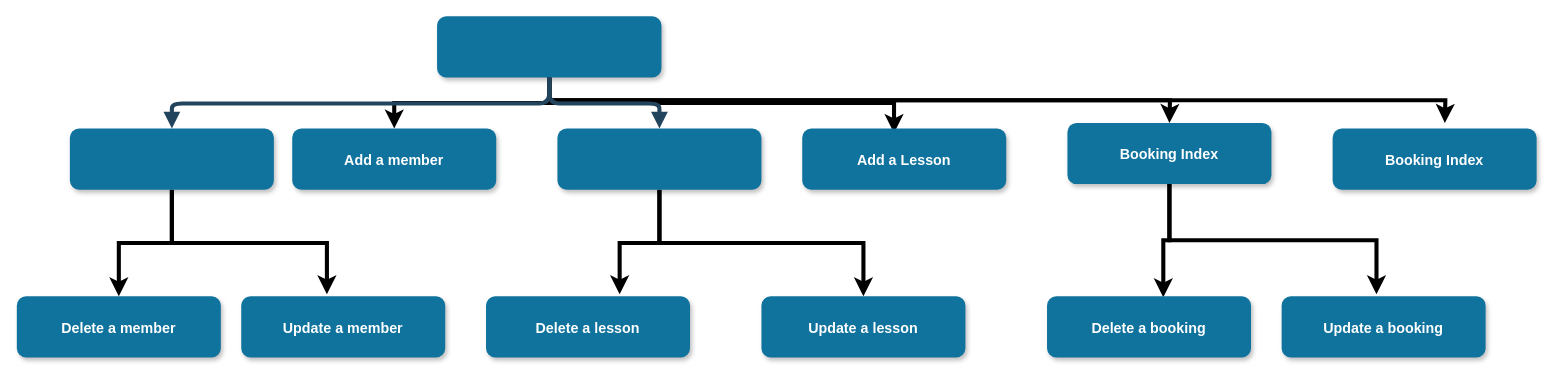
The diagram is 1553 pixels wide and 374 high, and some of its shapes have lost their labels. The shapes that lost their labels are listed below. From the top down, each one's centre as x and y in pixels, then its label:
(x=549, y=48): Home page
(x=172, y=160): Members Index
(x=660, y=160): Lessons Index
